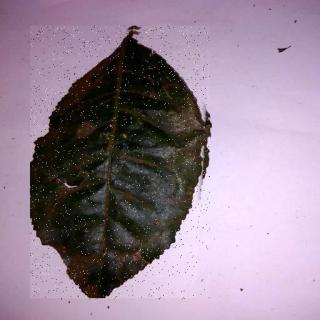Anthracnose: (31, 27, 211, 301)
